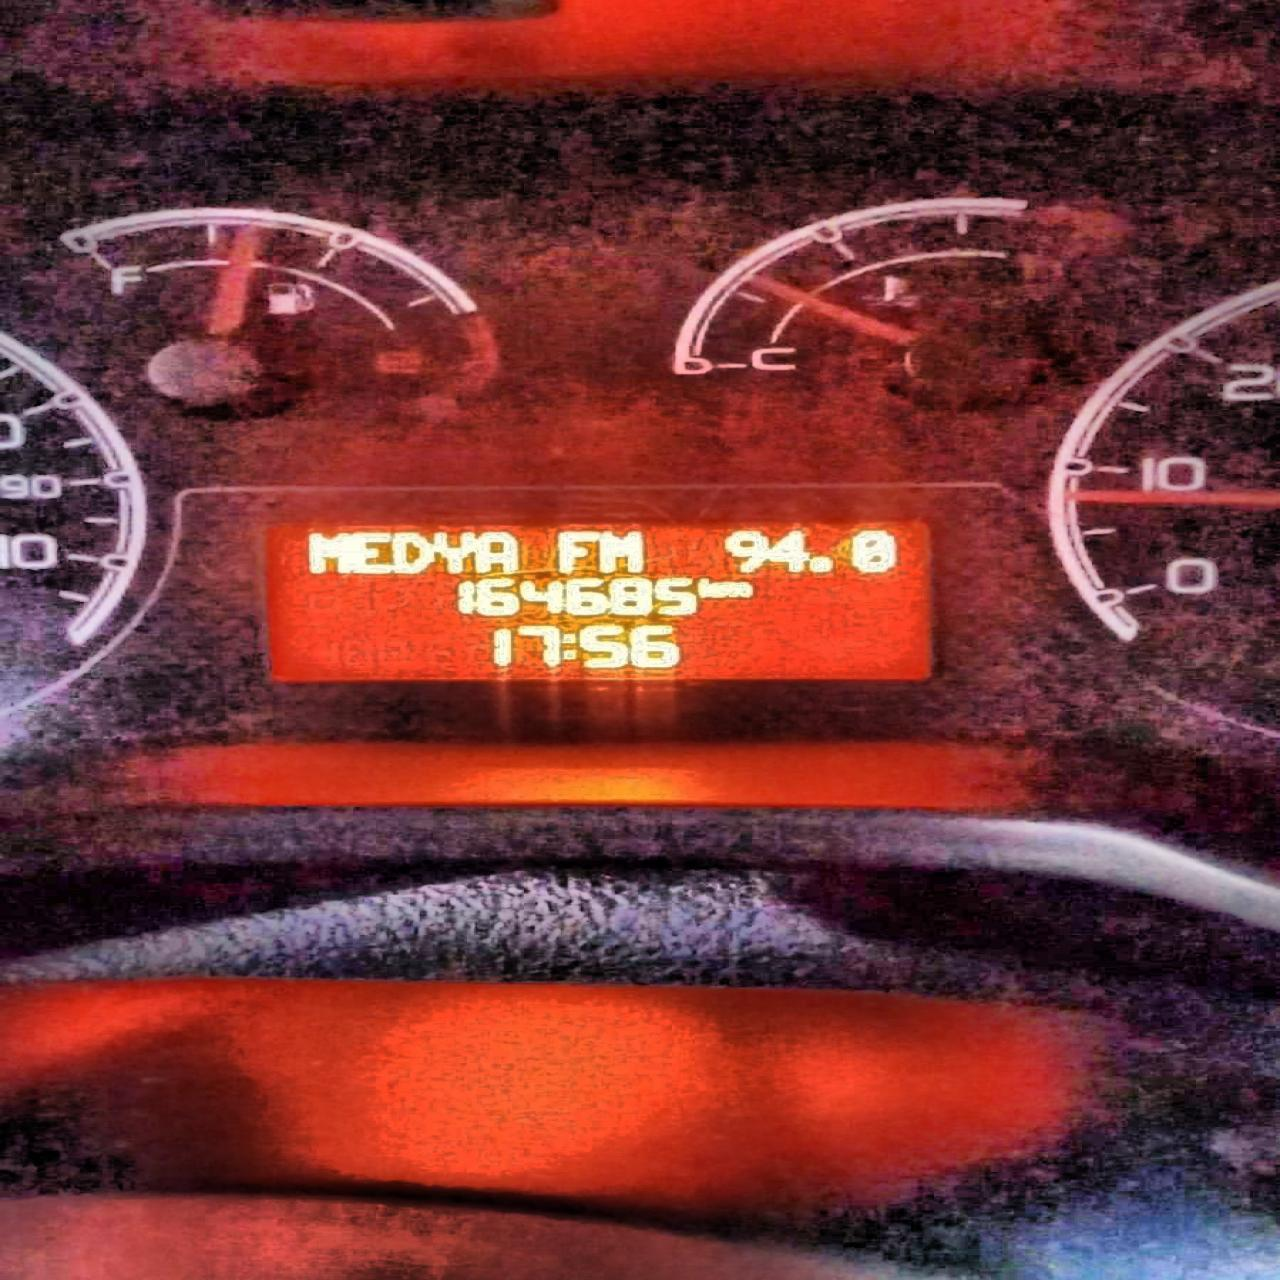-: (805, 553, 835, 573)
0: (850, 526, 897, 577)
1: (486, 625, 517, 666), (450, 578, 474, 617)
4: (519, 576, 563, 613), (771, 530, 808, 573)
5: (579, 622, 629, 670), (655, 573, 699, 617)
6: (631, 622, 679, 669), (475, 577, 516, 618), (564, 576, 604, 614)
7: (515, 622, 560, 668)
8: (608, 576, 655, 613)
9: (722, 529, 770, 572)
X: (305, 530, 353, 578), (393, 529, 436, 576), (474, 531, 518, 576), (601, 529, 645, 574), (353, 529, 392, 579), (557, 529, 598, 573), (434, 530, 472, 576), (558, 629, 578, 665), (720, 578, 749, 600), (700, 574, 721, 599)
odometer: (260, 516, 945, 682)
